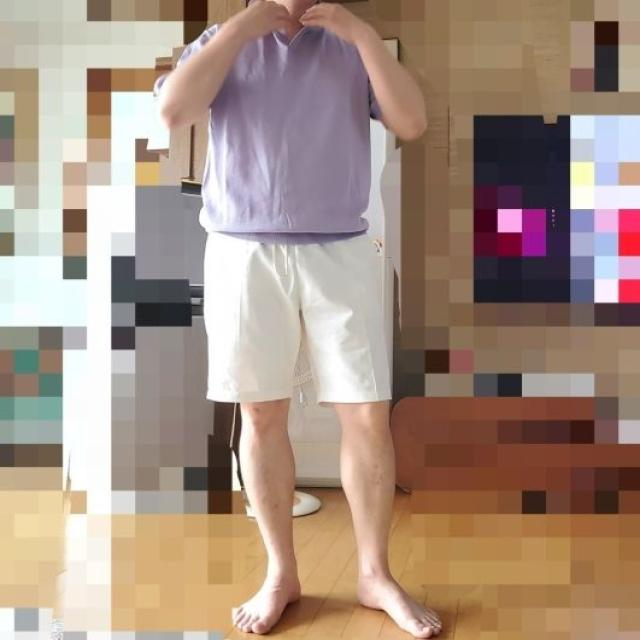shortpants: (202, 234, 393, 409)
shortsleeve: (162, 19, 396, 244)
